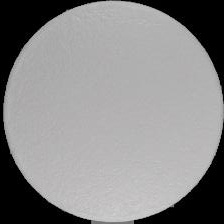0781-1599: (0, 0, 224, 224)
